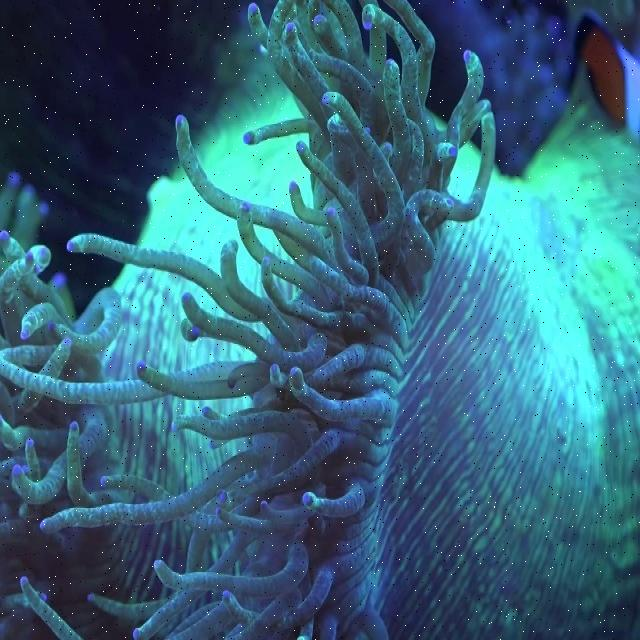fish: (567, 11, 639, 137)
reefs: (0, 0, 639, 639)
